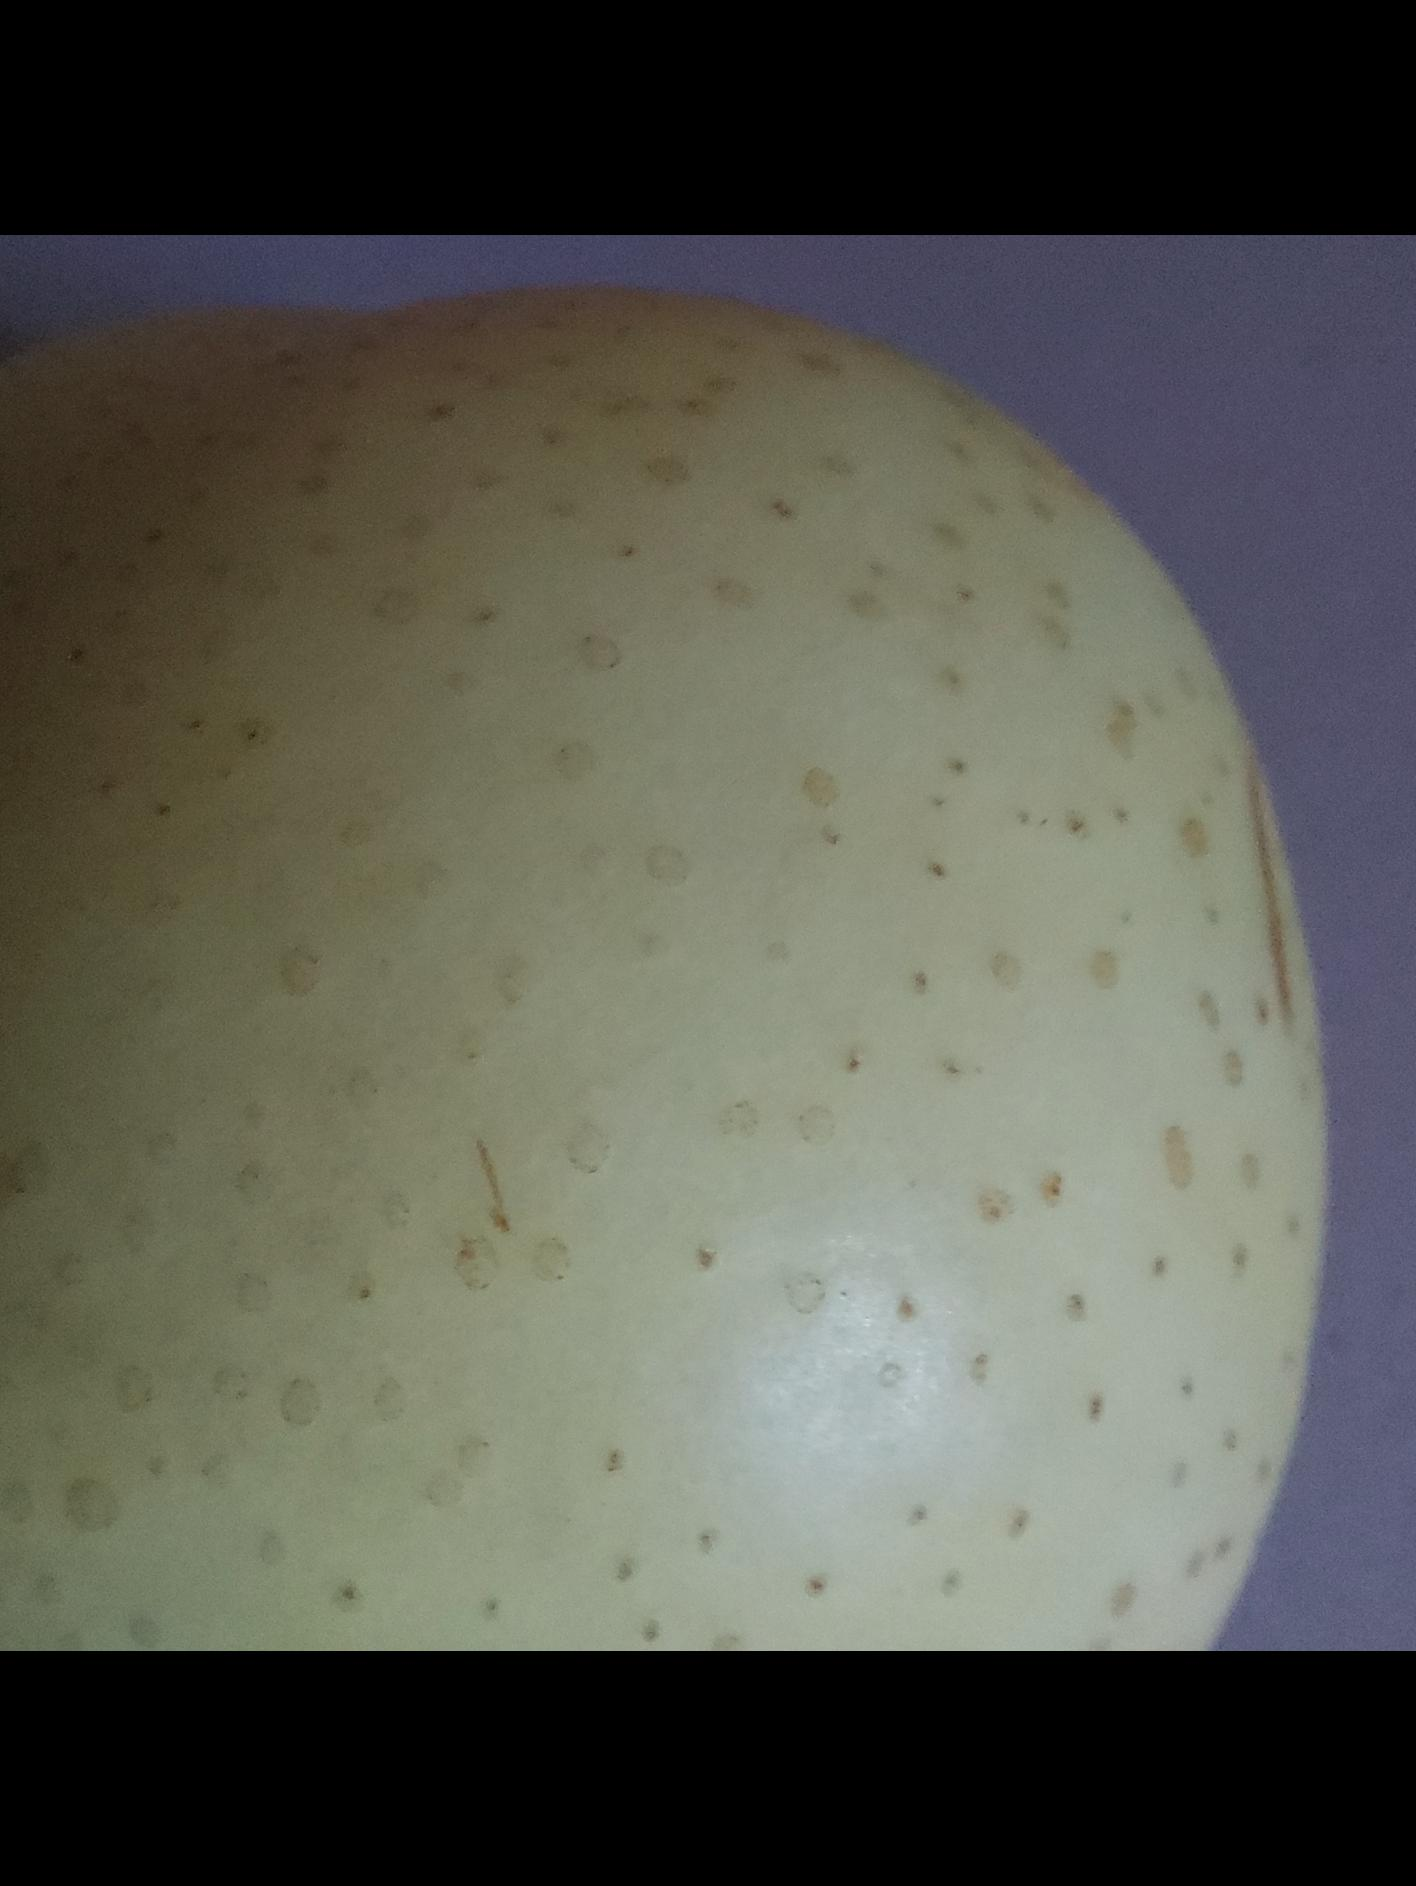Good Pear: (0, 235, 1395, 1651)
